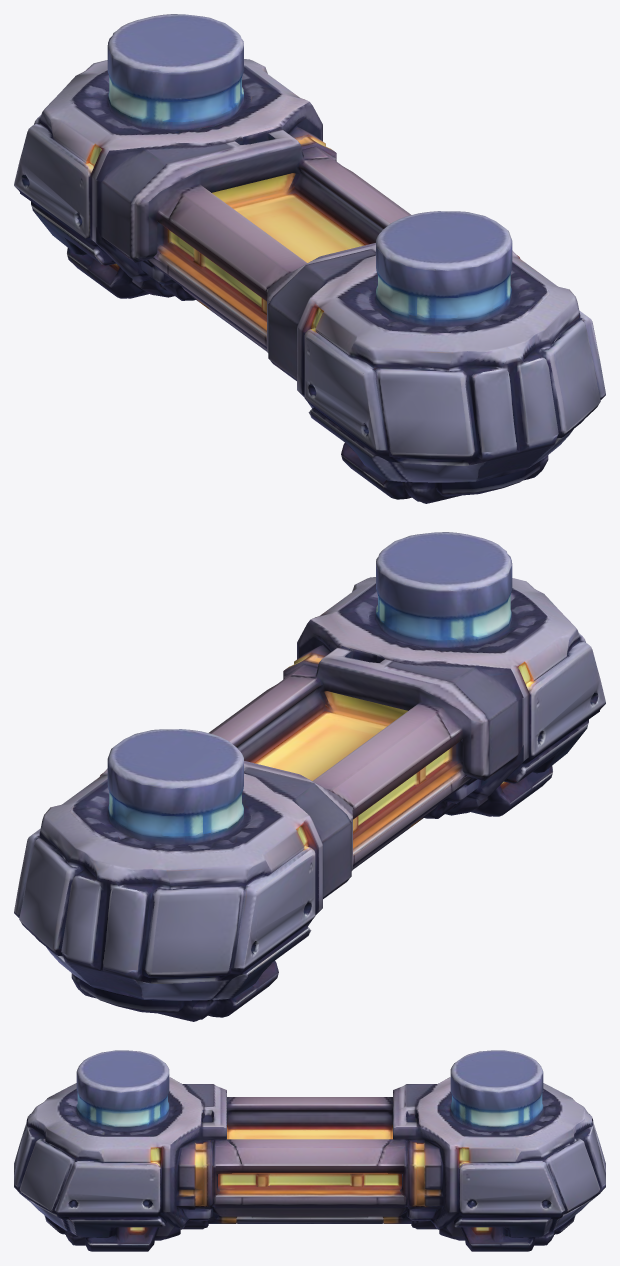
File: laser-platform.fbx
3 renders of one model, top to bottom at view 1: azimuth 30°, elevation 25°; view 2: azimuth 150°, elevation 25°; view 3: azimuth 270°, elevation 25°, orthographic. The views are drawn at different scales.
Parts seen in each view (by area): view 1: tripo_node_ccfe8b70; view 2: tripo_node_ccfe8b70; view 3: tripo_node_ccfe8b70.
Part boxes in pixels (<box>): tripo_node_ccfe8b70: <box>14,14,605,503</box>; tripo_node_ccfe8b70: <box>14,532,605,1021</box>; tripo_node_ccfe8b70: <box>14,1050,605,1251</box>.
Size of the model in its own units: 0.3112 by 0.2955 by 1.
Materials: 1 (1 with a texture image).
